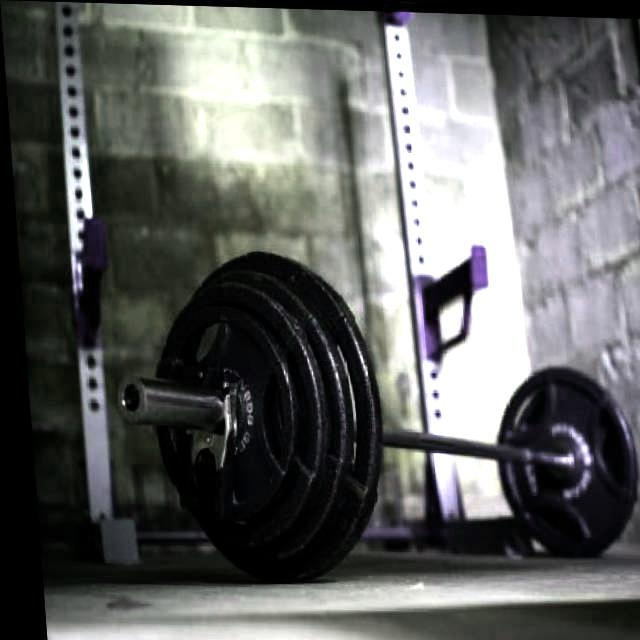barbell: (96, 242, 387, 592)
